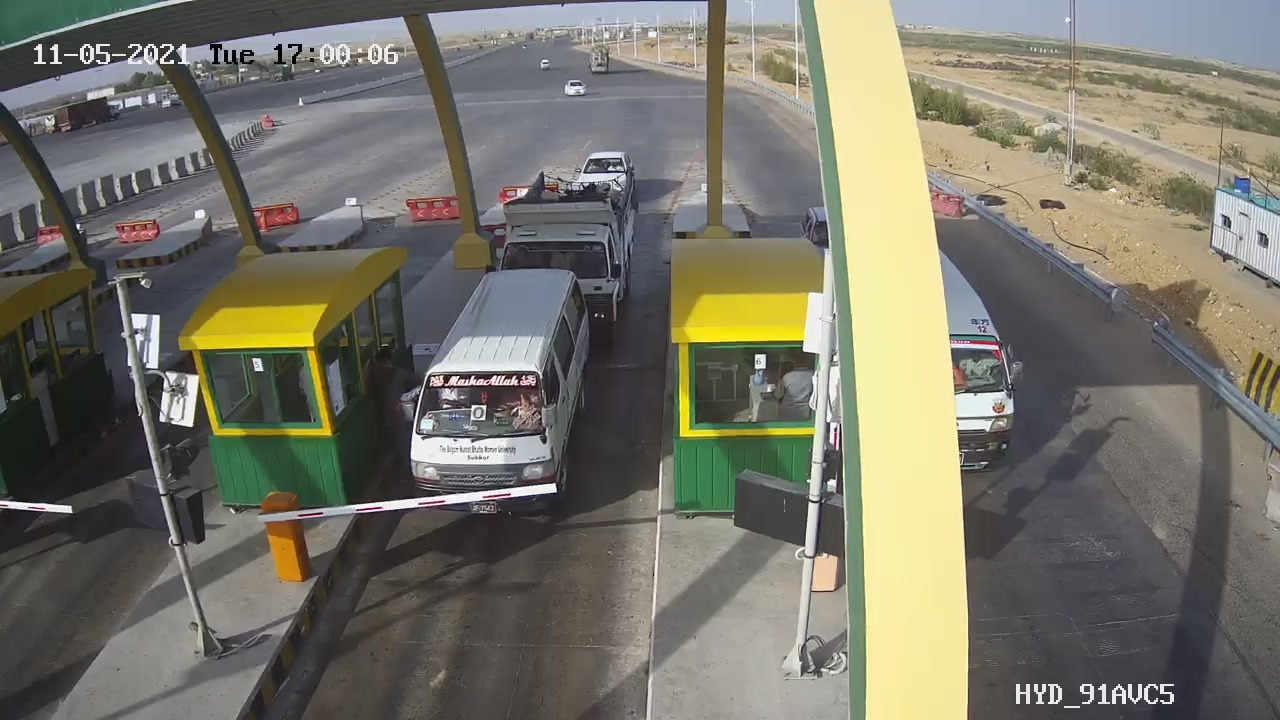F2: (382, 257, 624, 540)
